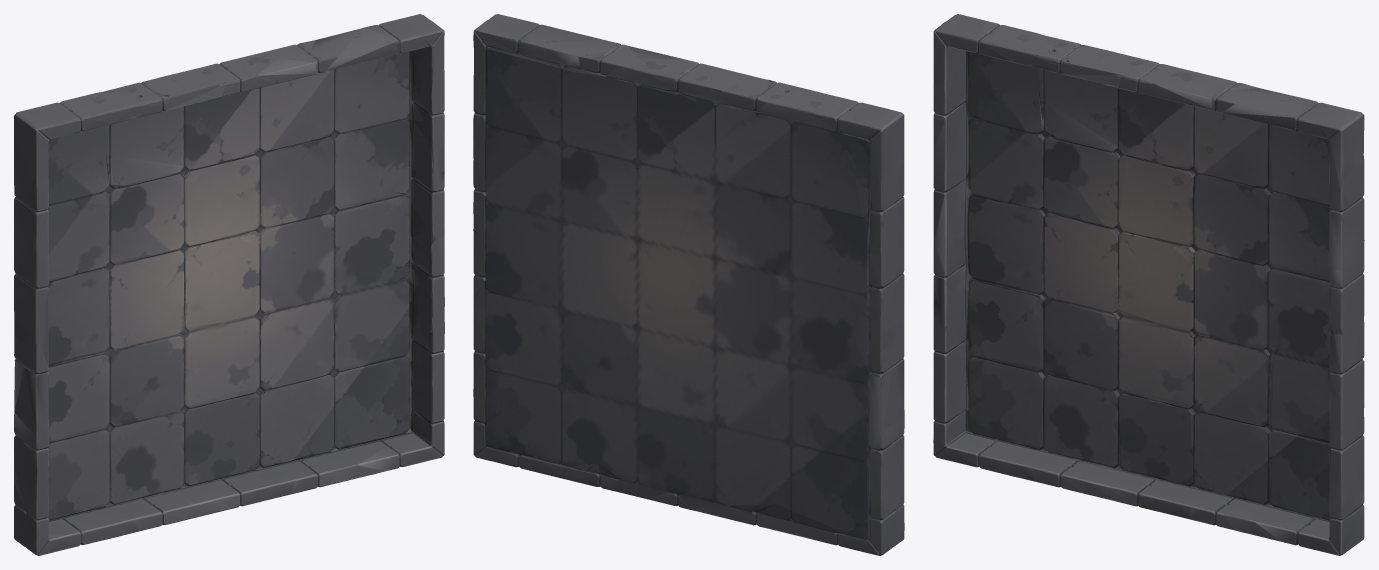
The model's file is ceiling.fbx.
The picture shows the model from 3 angles, left to right: view 1: azimuth 30°, elevation 25°; view 2: azimuth 150°, elevation 25°; view 3: azimuth 330°, elevation 25°; orthographic projection.
Parts seen in each view (by area): view 1: Mesh_0; view 2: Mesh_0; view 3: Mesh_0.
Part boxes in pixels (box(x1,y1,x2,y2)): Mesh_0: box(14, 14, 444, 555); Mesh_0: box(473, 14, 904, 555); Mesh_0: box(933, 14, 1364, 555).
Bounding box in the file's own units: 5002 × 5000 × 502.
1 material, 1 textured.
